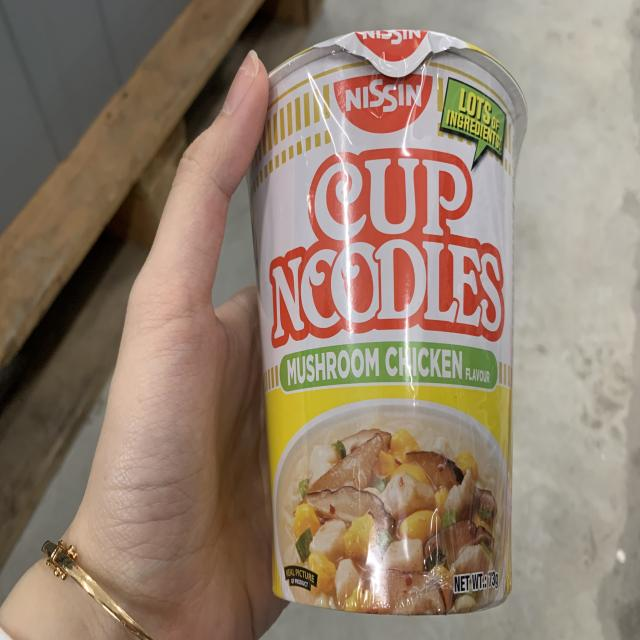object_name: (259, 62, 513, 611)
